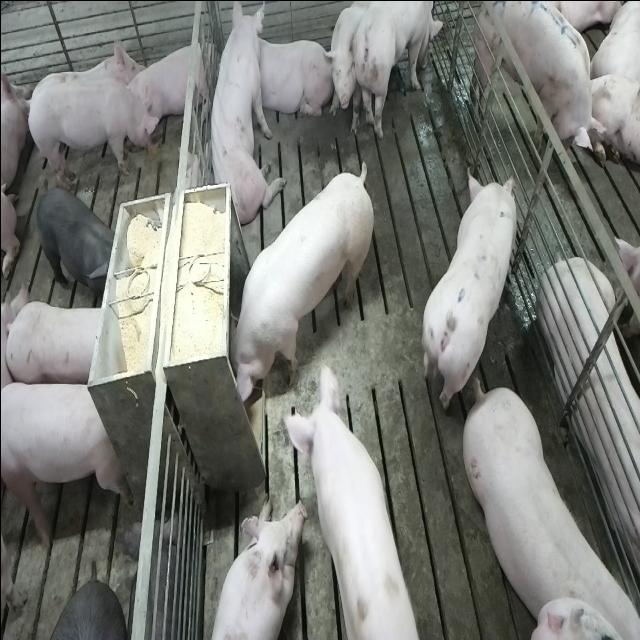Feeding: (284, 356, 430, 634), (219, 161, 369, 408)
Sitting: (323, 2, 445, 144), (203, 4, 281, 226)
Standing: (457, 376, 635, 634), (422, 167, 518, 412), (466, 0, 602, 156), (1, 379, 127, 539), (21, 80, 157, 186), (5, 296, 114, 388), (34, 182, 118, 294)
Sternal_lying: (540, 235, 640, 589), (202, 497, 302, 640), (128, 36, 210, 132), (250, 34, 330, 121)
